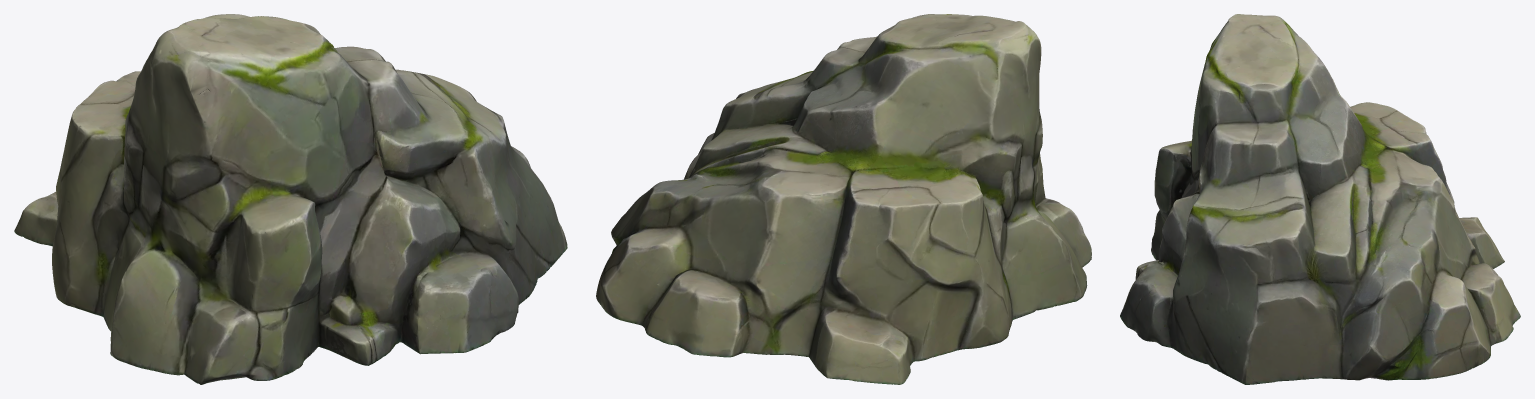
The model's file is Rock Object.glb.
3 views of the same model, side by side, from view 1: azimuth 30°, elevation 25°; view 2: azimuth 150°, elevation 25°; view 3: azimuth 270°, elevation 25° (orthographic). The views are drawn at different scales.
Bounding box in the file's own units: 1.9 × 1.18 × 1.89.
1 material, 1 textured.
